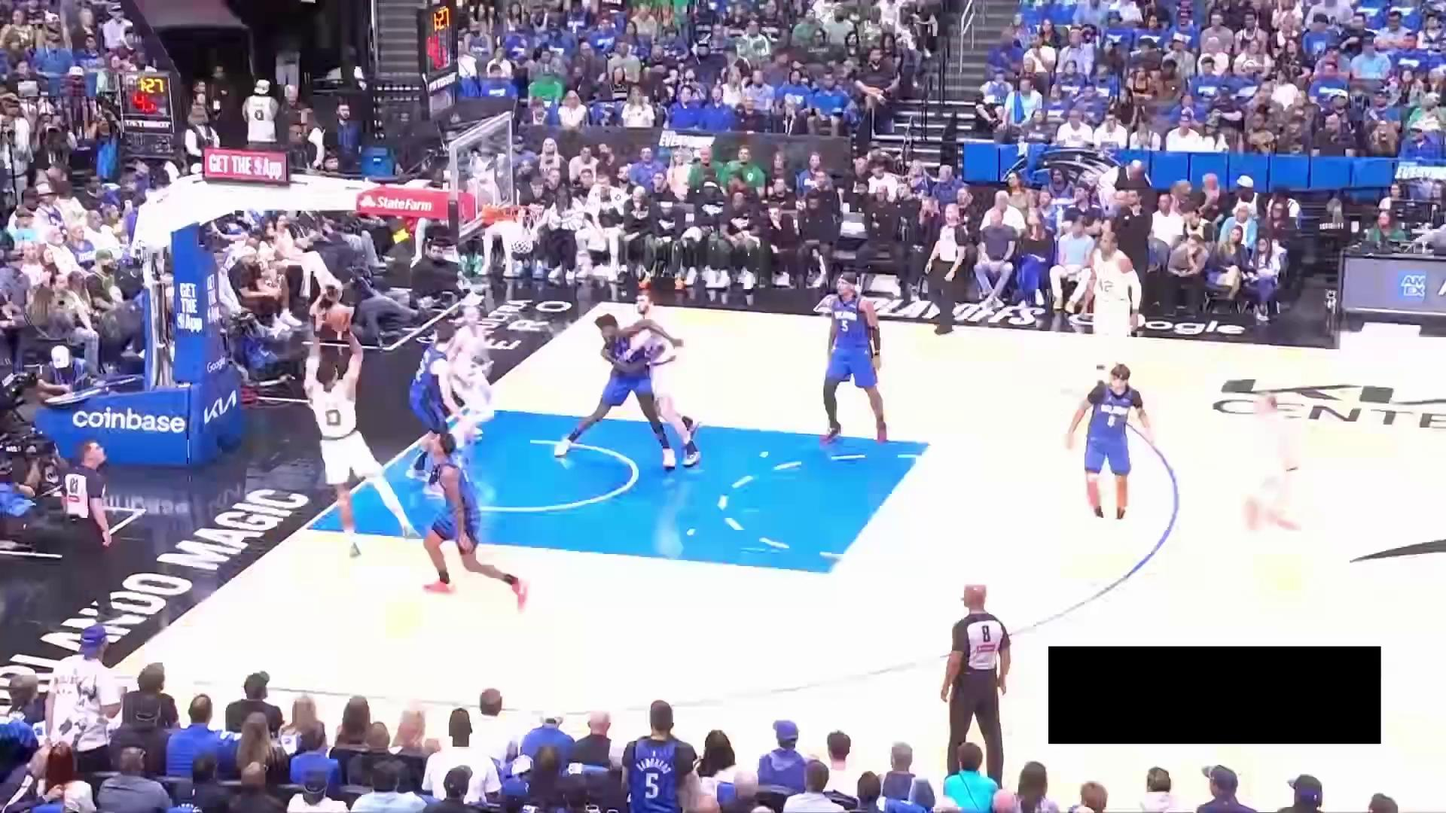ball: (325, 302, 350, 333)
number: (324, 409, 345, 430), (1098, 279, 1115, 294), (1107, 414, 1117, 429), (840, 319, 849, 332)
player: (411, 429, 530, 614), (552, 312, 687, 459), (1065, 359, 1159, 524), (811, 272, 888, 447), (629, 290, 704, 466), (1239, 391, 1307, 541), (1075, 229, 1147, 366), (408, 322, 462, 498), (438, 303, 496, 448)
player-jump-shot: (300, 304, 424, 562)
referee: (939, 580, 1019, 791), (53, 435, 122, 621), (916, 199, 968, 336)
rim: (503, 203, 547, 220)
